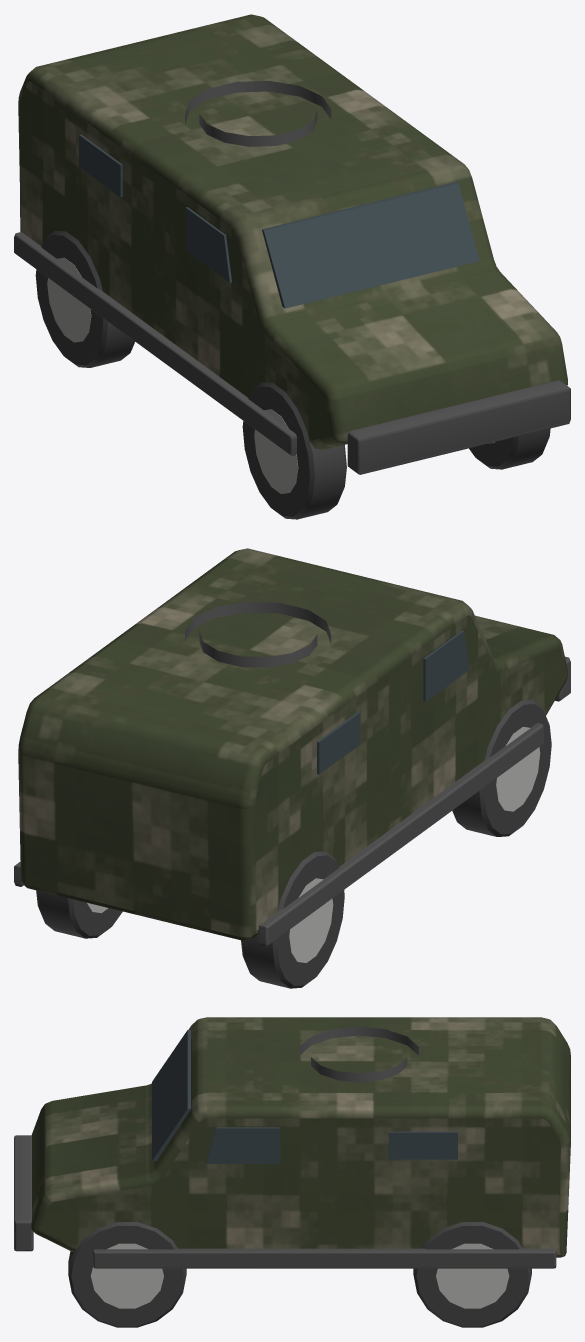
The model's file is apc.glb.
3 renders of one model, top to bottom at view 1: azimuth 30°, elevation 25°; view 2: azimuth 150°, elevation 25°; view 3: azimuth 270°, elevation 25°, orthographic. The views are drawn at different scales.
Parts seen in each view (by area): view 1: model; view 2: model; view 3: model.
Boxes of the visible parts, x1,y1,x2,y2 form: model: (14, 14, 570, 519); model: (14, 548, 570, 988); model: (14, 1017, 570, 1327).
Size of the model in its own units: 2.49 by 2.54 by 5.65.
Materials: 6 (1 with a texture image).
